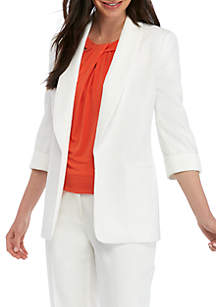F_W_suit jacket: (29, 19, 201, 227)
